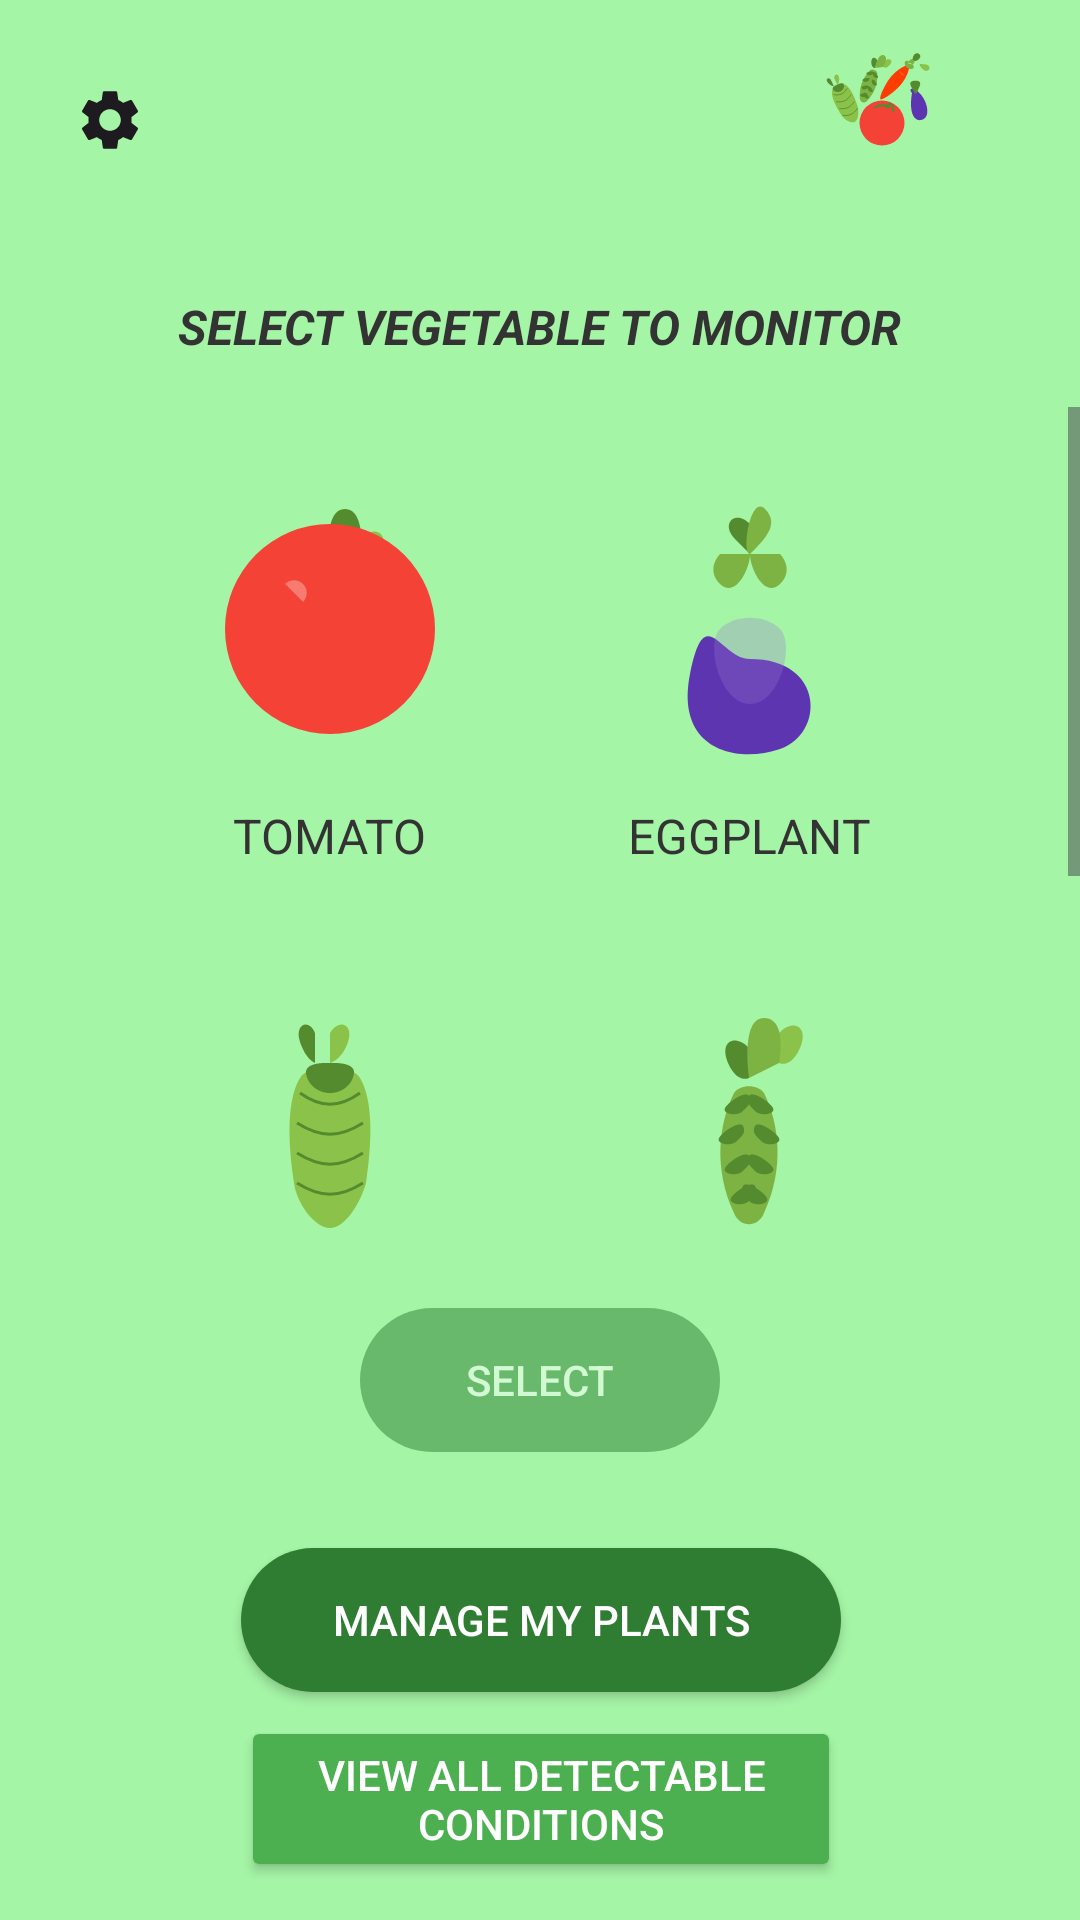

Named icons in this screenshot (1080 x 1920) and their bounding boxes, [x1=x1, y1=y1, x2=x2, y2=y2]:
bitter gourd: [x1=718, y1=1018, x2=803, y2=1224]
okra: [x1=289, y1=1024, x2=371, y2=1228]
Settings: [x1=82, y1=91, x2=138, y2=149]
